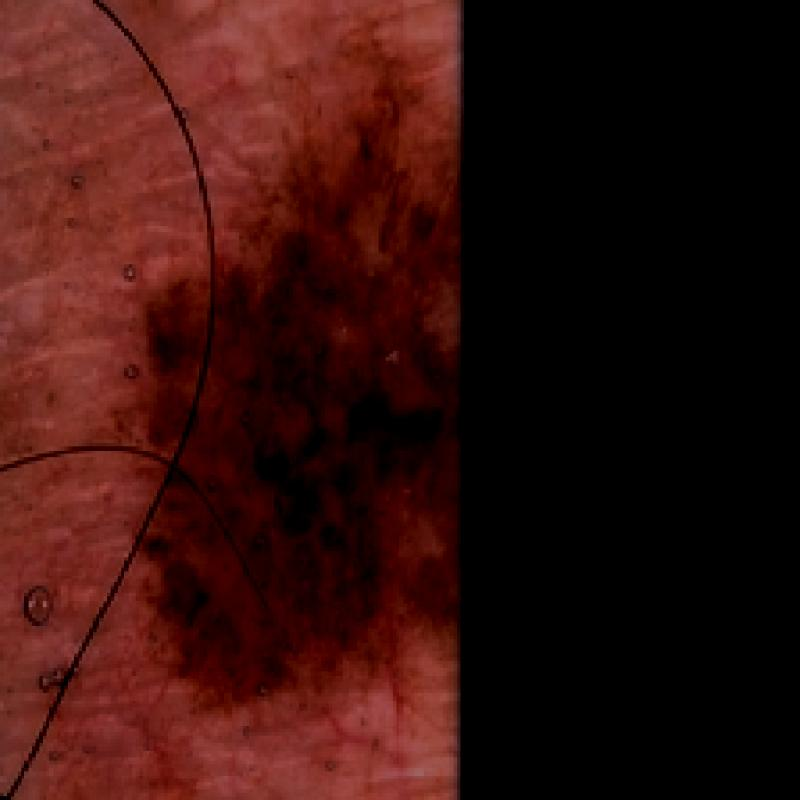malignant: (125, 81, 464, 730)
